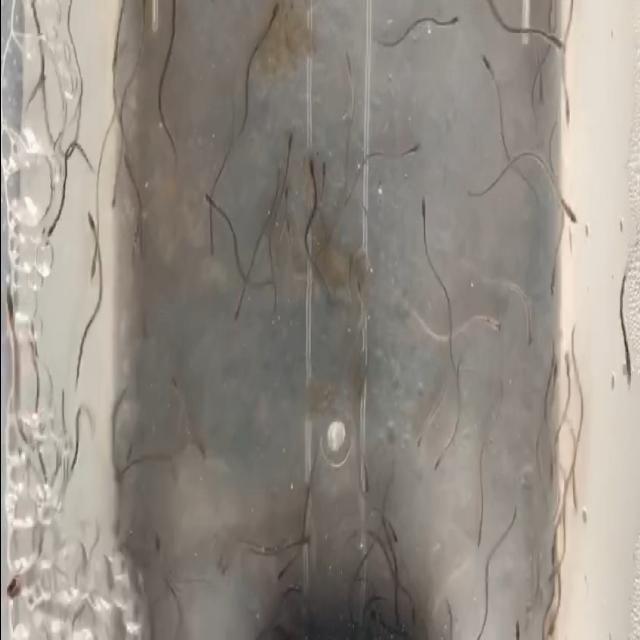active_glass_eel: (479, 52, 504, 98), (556, 178, 577, 226), (396, 136, 424, 172), (480, 307, 508, 341), (4, 278, 19, 338), (38, 211, 56, 260), (23, 328, 40, 378), (105, 168, 124, 212), (542, 252, 560, 298), (560, 341, 578, 387), (620, 342, 634, 401), (381, 506, 399, 550), (4, 572, 27, 606), (543, 364, 561, 407), (102, 506, 124, 540), (418, 192, 432, 244), (521, 310, 533, 370), (541, 554, 560, 590), (542, 32, 570, 56), (344, 49, 360, 89), (437, 10, 459, 39), (112, 456, 132, 486), (84, 208, 98, 250), (544, 605, 560, 640), (216, 560, 233, 592), (471, 520, 486, 556), (544, 448, 558, 486), (168, 363, 180, 407), (272, 557, 288, 589), (430, 443, 447, 473), (228, 300, 243, 334), (406, 599, 419, 638), (560, 98, 574, 134), (318, 155, 330, 197), (86, 248, 98, 290), (151, 528, 163, 569), (266, 0, 280, 33), (511, 602, 525, 634), (213, 544, 226, 578), (354, 286, 368, 316), (120, 152, 134, 182), (306, 158, 318, 192), (568, 484, 578, 524), (371, 610, 386, 636), (538, 87, 550, 119), (282, 180, 294, 212), (199, 191, 215, 215), (414, 427, 430, 449), (360, 474, 372, 502), (282, 128, 294, 156)
